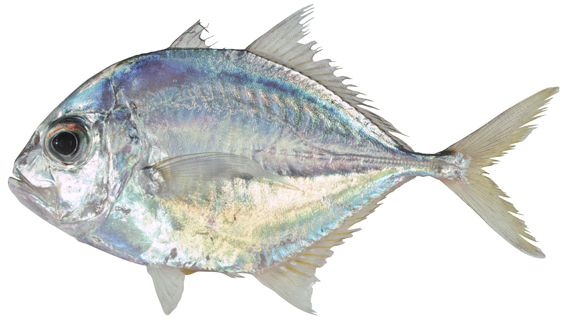fish: (8, 4, 559, 317)
